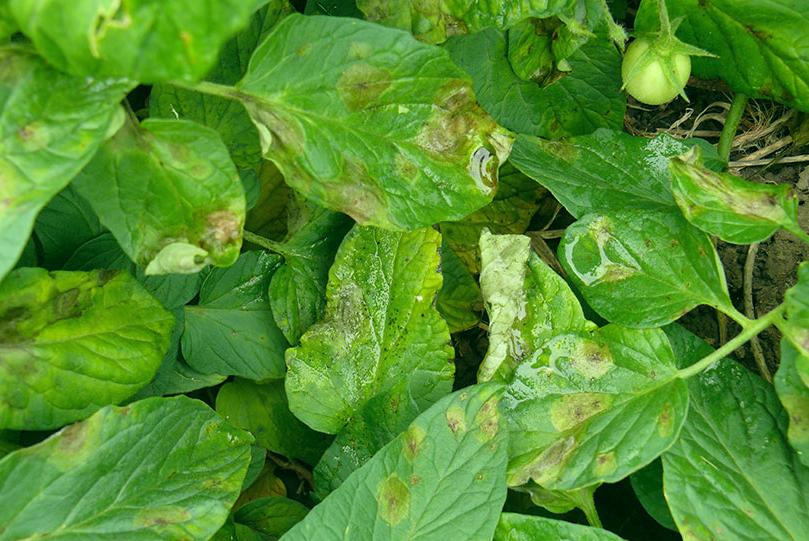Tomato leaf late blight: (197, 335, 535, 541), (238, 0, 510, 246), (298, 204, 490, 466), (475, 310, 709, 504), (71, 78, 258, 314), (0, 378, 260, 541), (0, 252, 186, 441), (552, 200, 747, 340), (653, 131, 804, 253)
